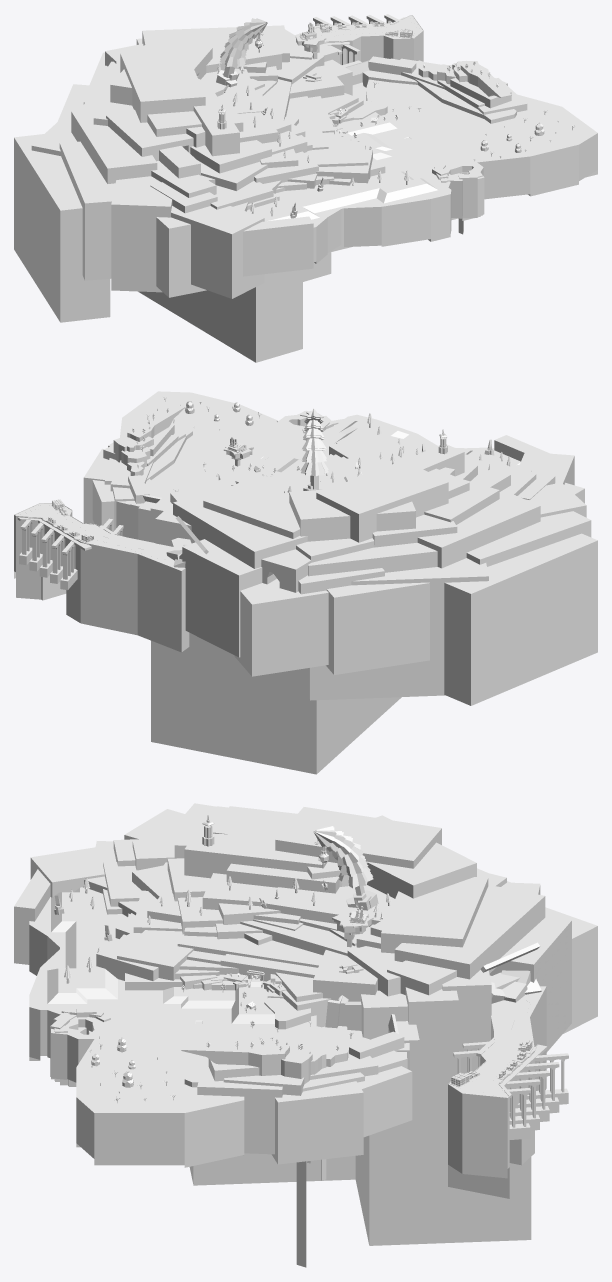
The picture shows the model from 3 angles, top to bottom: view 1: azimuth 30°, elevation 25°; view 2: azimuth 150°, elevation 25°; view 3: azimuth 270°, elevation 25°; orthographic projection. The views are drawn at different scales.
Parts seen in each view (by area): view 1: faf-map; view 2: faf-map; view 3: faf-map.
Part boxes in pixels (bbox=[...]): faf-map: bbox=[14, 14, 597, 362]; faf-map: bbox=[14, 391, 597, 774]; faf-map: bbox=[14, 803, 597, 1267].
Bounding box in the file's own units: 6280 × 3547 × 5175.
Materials: 120 (120 with a texture image).
